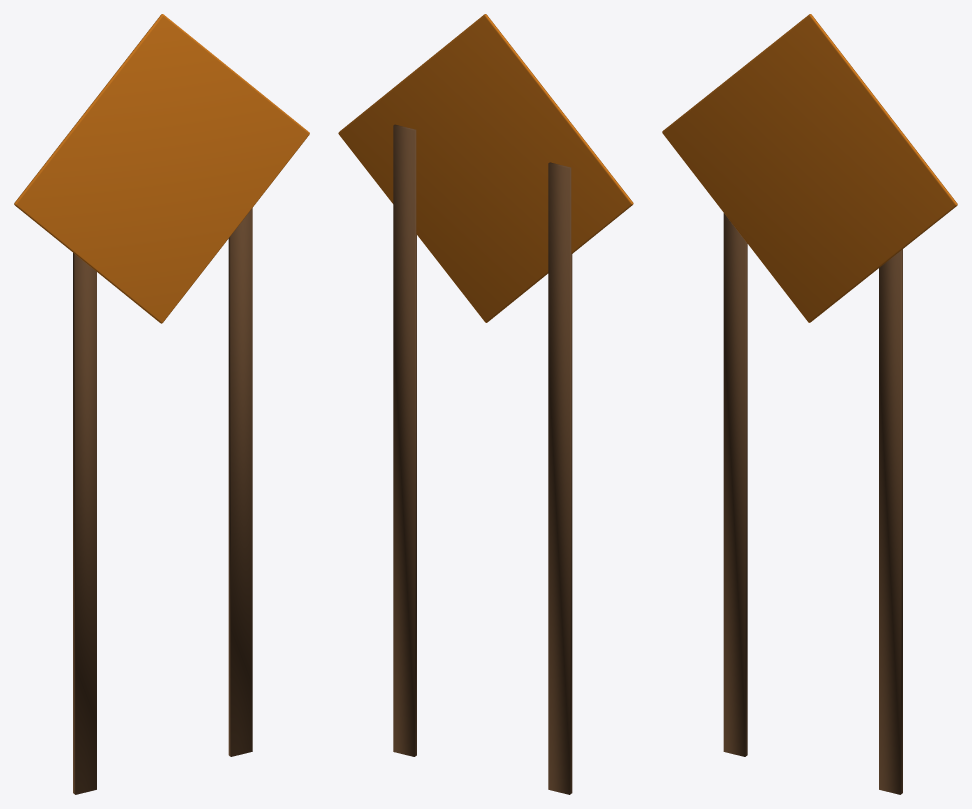
File: OrangeDiamond.fbx
The picture shows the model from 3 angles, left to right: view 1: azimuth 30°, elevation 25°; view 2: azimuth 150°, elevation 25°; view 3: azimuth 330°, elevation 25°; orthographic projection.
Visible parts, largest first — view 1: Plane.001; view 2: Plane.001; view 3: Plane.001.
Boxes of the visible parts, x1=… form: Plane.001: x1=14, y1=14, x2=309, y2=794; Plane.001: x1=338, y1=14, x2=633, y2=794; Plane.001: x1=662, y1=14, x2=957, y2=794.
Size of the model in its own units: 1363 by 3350 by 27.25.
